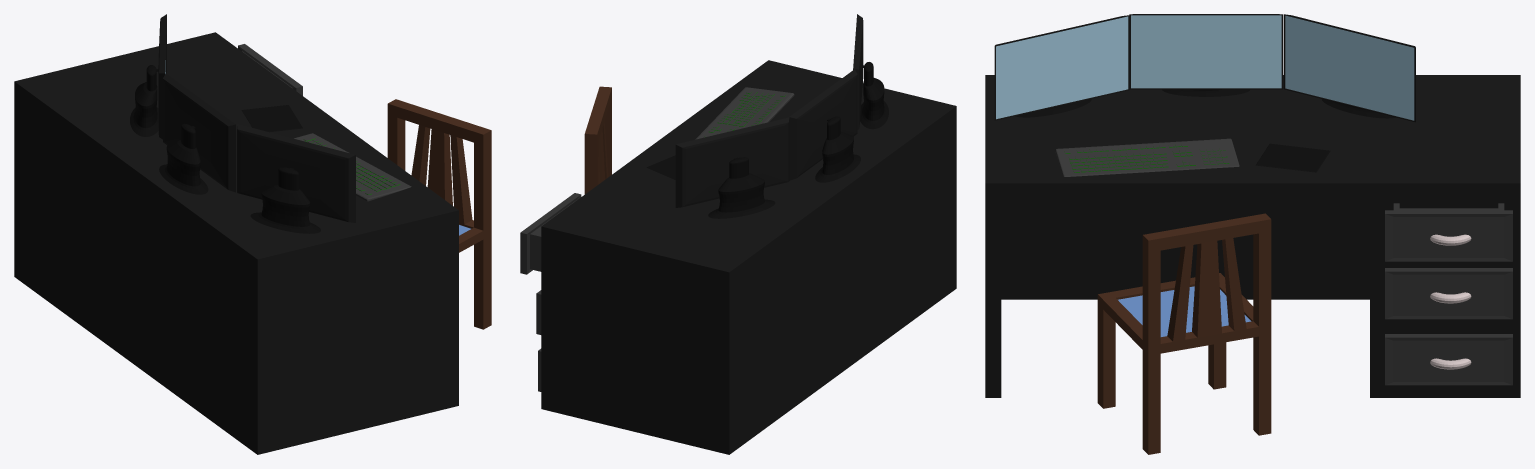
The model's file is desk_1.dae.
3 views of the same model, side by side, from view 1: azimuth 30°, elevation 25°; view 2: azimuth 150°, elevation 25°; view 3: azimuth 270°, elevation 25° (orthographic). The views are drawn at different scales.
Parts seen in each view (by area): view 1: Cube_001, Plane_001, Cylinder_001, Cylinder, Cylinder_002, Cube_053, Plane, Cube; view 2: Cube_001, Cylinder_002, Cylinder, Plane_001, Cube_053, Cylinder_001, Cube; view 3: Cube_001, Plane_001, Cylinder, Cylinder_001, Cylinder_002, Cube, Cube_002, Cube_003, Cube_053, Plane.
Part boxes in pixels (left/top/right/bottom): Cube_001: left=14, top=32, right=458, bottom=454; Plane_001: left=387, top=99, right=491, bottom=329; Cylinder_001: left=237, top=124, right=355, bottom=233; Cylinder: left=159, top=73, right=235, bottom=194; Cylinder_002: left=130, top=14, right=166, bottom=139; Cube_053: left=294, top=133, right=411, bottom=201; Plane: left=241, top=105, right=302, bottom=132; Cube: left=238, top=44, right=302, bottom=95; Cube_001: left=541, top=60, right=956, bottom=454; Cylinder_002: left=675, top=117, right=789, bottom=218; Cylinder: left=789, top=69, right=860, bottom=182; Plane_001: left=584, top=86, right=611, bottom=194; Cube_053: left=695, top=87, right=794, bottom=139; Cylinder_001: left=853, top=14, right=888, bottom=129; Cube: left=520, top=193, right=581, bottom=274; Cube_001: left=985, top=75, right=1520, bottom=397; Plane_001: left=1097, top=213, right=1271, bottom=454; Cylinder: left=1129, top=14, right=1282, bottom=96; Cylinder_001: left=994, top=15, right=1129, bottom=120; Cylinder_002: left=1283, top=14, right=1415, bottom=122; Cube: left=1385, top=203, right=1512, bottom=261; Cube_002: left=1385, top=268, right=1512, bottom=319; Cube_003: left=1385, top=334, right=1512, bottom=385; Cube_053: left=1055, top=138, right=1239, bottom=176; Plane: left=1255, top=143, right=1330, bottom=172.
Size of the model in its own units: 3.41 by 4.67 by 2.88.
